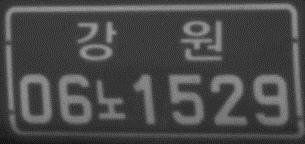0: (18, 71, 54, 127)
1: (132, 72, 158, 127)
2: (208, 72, 248, 128)
5: (166, 71, 205, 127)
6: (56, 72, 93, 126)
9: (251, 72, 291, 127)
강원_D: (74, 16, 224, 65)
노: (93, 76, 127, 123)
